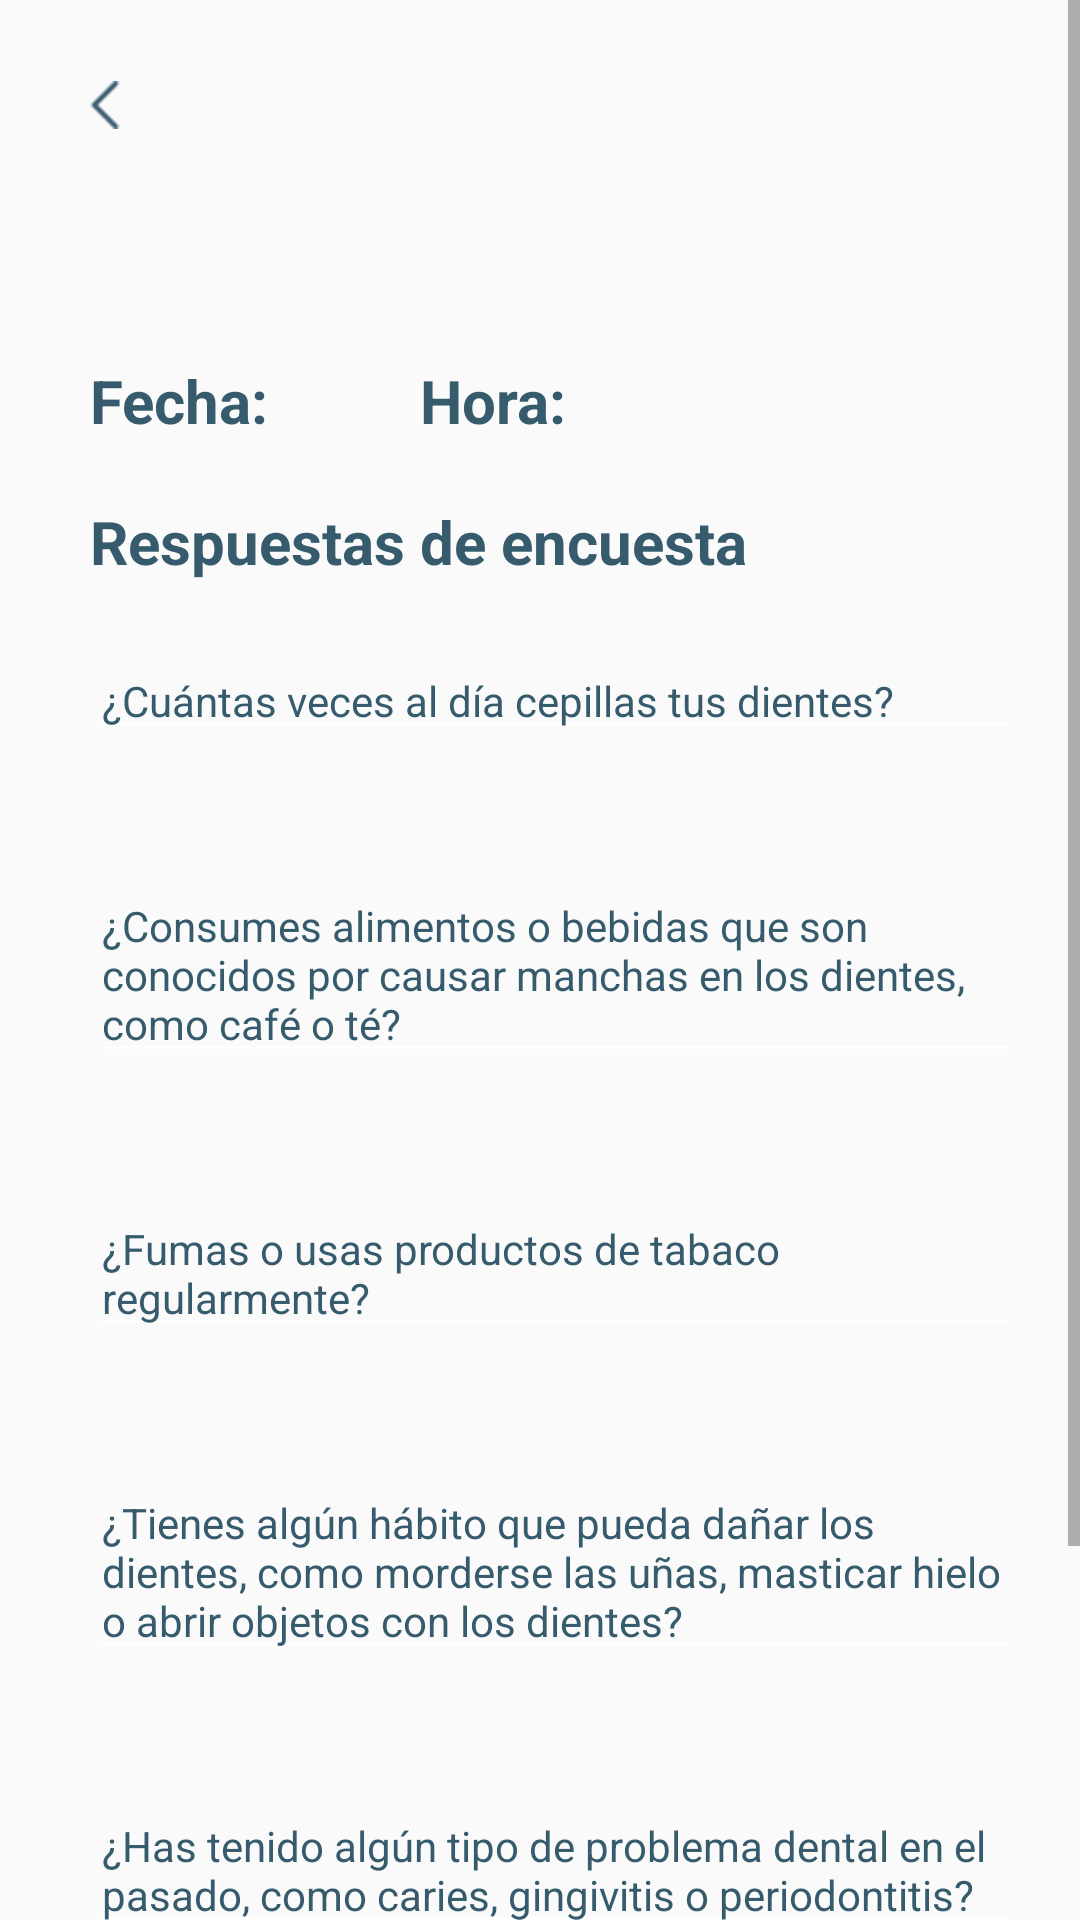

Screen size 1080x1920. Icon name, then its box in pixels as BBox(x1, y1, x2, y2):
back: BBox(91, 81, 119, 129)
